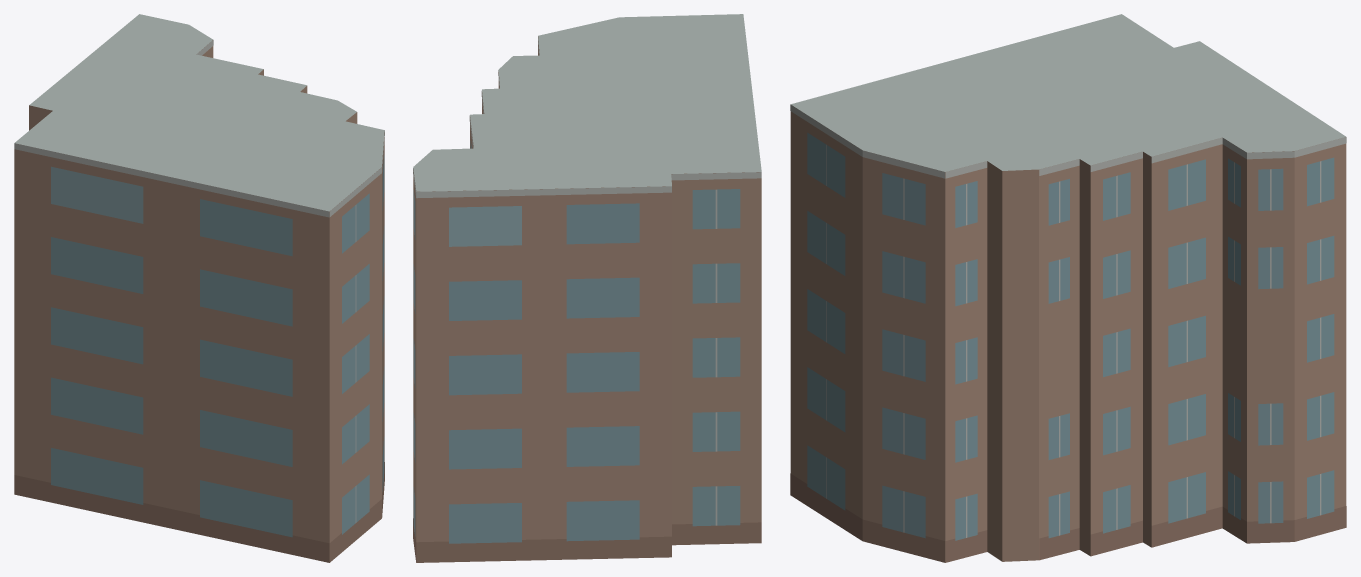
File: survey-upis-32730699.glb
3 views of the same model, side by side, from view 1: azimuth 30°, elevation 25°; view 2: azimuth 150°, elevation 25°; view 3: azimuth 270°, elevation 25° (orthographic). The views are drawn at different scales.
Parts seen in each view (by area): view 1: survey-upis-32730699.tmp; view 2: survey-upis-32730699.tmp; view 3: survey-upis-32730699.tmp.
Boxes of the visible parts, <box> form: survey-upis-32730699.tmp: <box>14,14,384,562</box>; survey-upis-32730699.tmp: <box>413,14,761,562</box>; survey-upis-32730699.tmp: <box>790,14,1346,562</box>.
Size of the model in its own units: 12.32 by 14.2 by 18.32.
